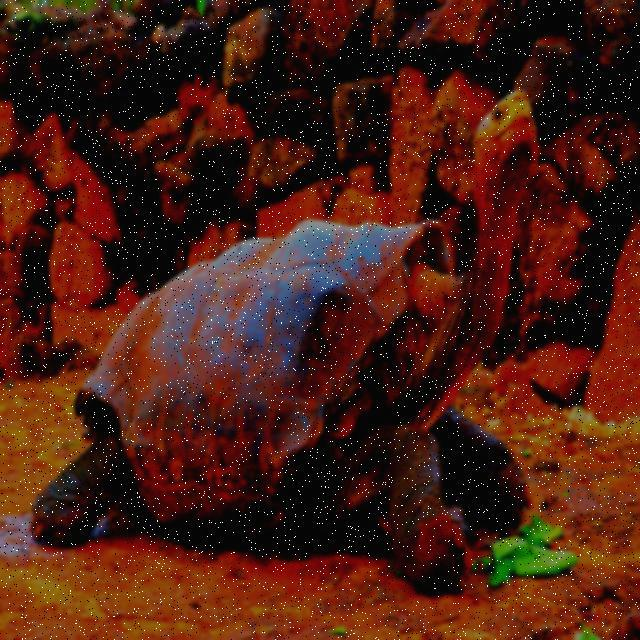tortoise: (28, 83, 538, 582)
